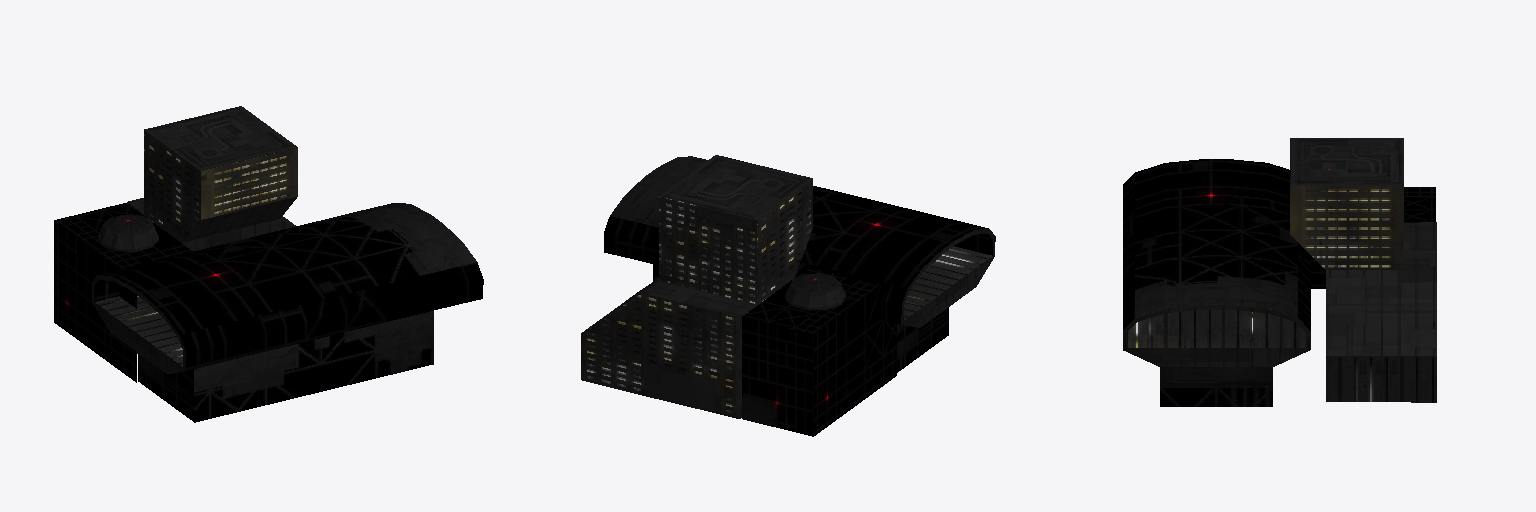
3 renders of one model, left to right at view 1: azimuth 30°, elevation 25°; view 2: azimuth 150°, elevation 25°; view 3: azimuth 270°, elevation 25°, orthographic.
Visible parts, largest first — view 1: building_47; view 2: building_47; view 3: building_47.
Boxes of the visible parts, box(x1,y1,x2,y2) form: building_47: box(54, 106, 483, 422); building_47: box(581, 155, 995, 436); building_47: box(1123, 138, 1436, 406).
Bounding box in the file's own units: 87.2 × 52.2 × 79.59.
1 materials, 1 textured.